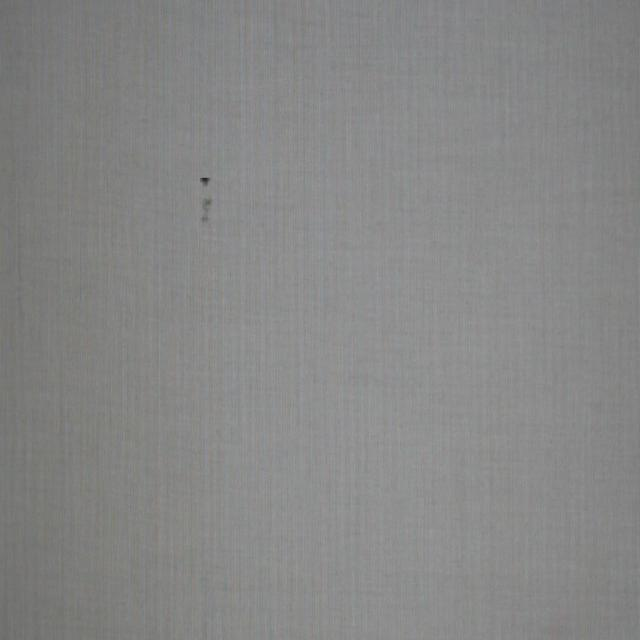dirty: (202, 196, 210, 221), (202, 177, 212, 185)
